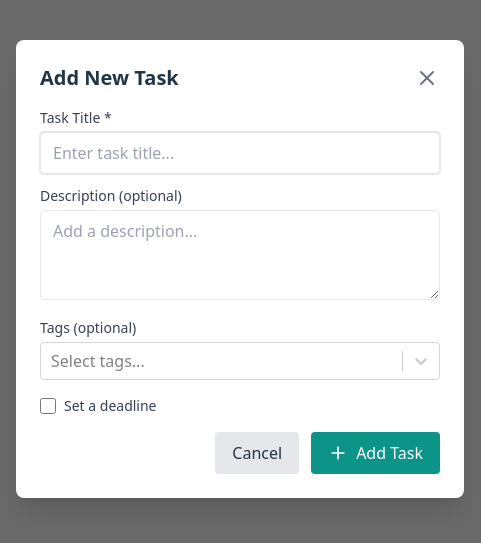
Test: Task Form Integration Tests › should not allow task title less than 3 characters
Step 1. Type "ab" into the field with test id "task-title-input" → (240, 153), box [40, 132, 440, 174]
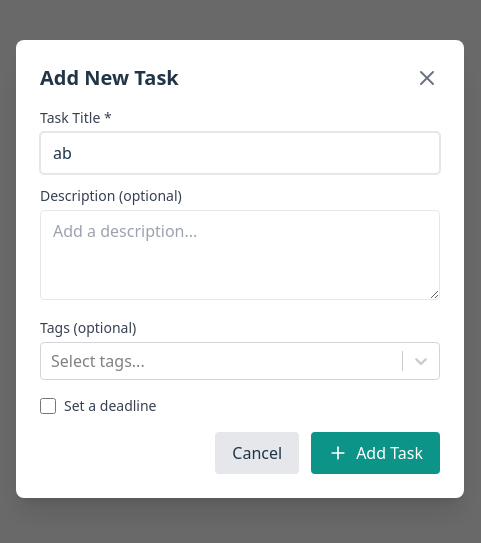
Step 2. Click the button with test id "submit-button" → (376, 453), box [311, 432, 440, 474]
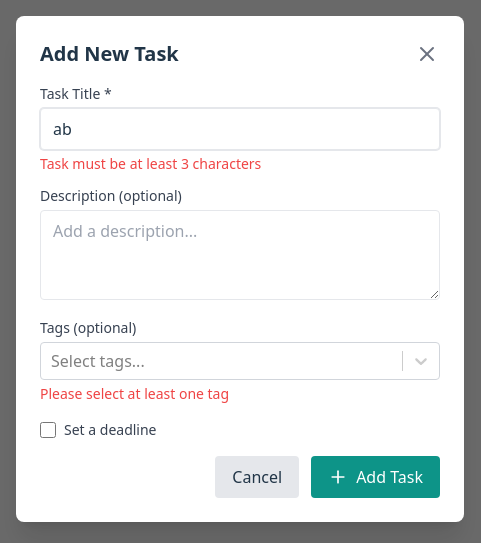
Now the text with test id "title-error" reads "Task must be at least 3 characters", box [40, 154, 261, 173]
